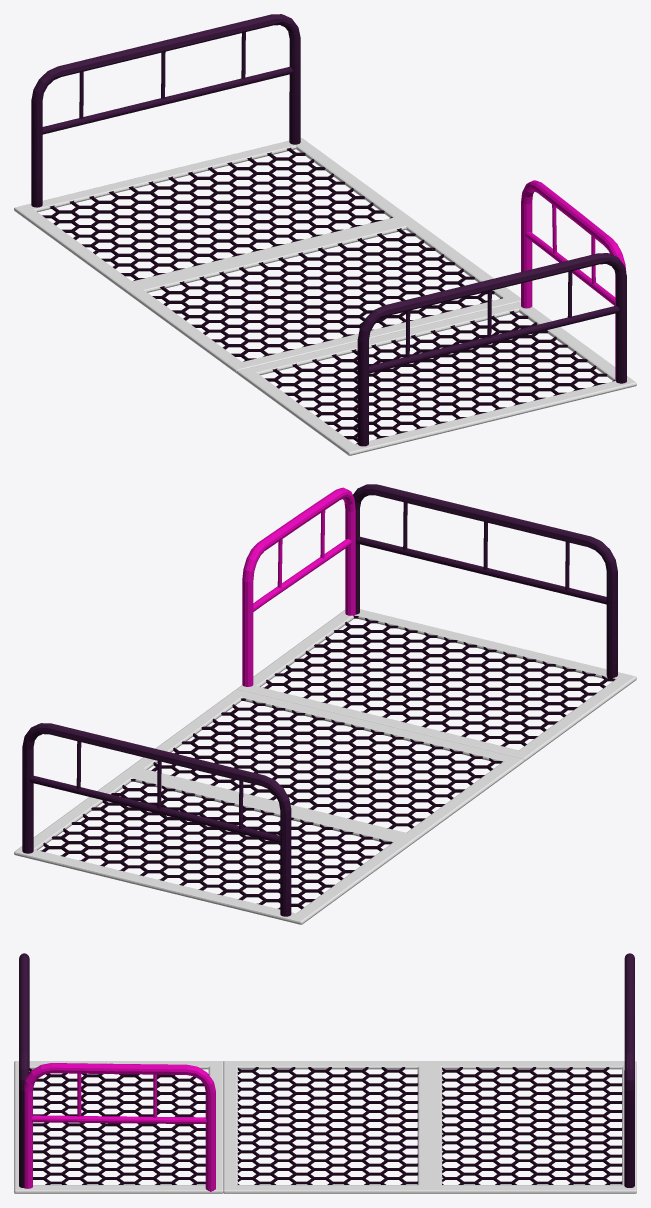
Rendered from WALK.fbx.
3 renders of one model, top to bottom at view 1: azimuth 30°, elevation 25°; view 2: azimuth 150°, elevation 25°; view 3: azimuth 270°, elevation 25°, orthographic. The views are drawn at different scales.
Visible parts, largest first — view 1: Circle.025, Circle.003, Circle.001, Plane.001, rail.031, rail.003, Plane.038, Plane.010, rail.004; view 2: Circle.001, Circle.003, Circle.025, rail.031, Plane.038, Plane.001, rail.003, Plane.010, rail.004; view 3: Circle.003, Circle.025, Circle.001, Plane.010, rail.004, Plane.038, Plane.001, rail.031, rail.003.
Part boxes in pixels (box(x1,y1,x2,y2)): Circle.025: box(42, 147, 392, 280); Circle.003: box(152, 228, 502, 361); Circle.001: box(265, 310, 615, 443); Plane.001: box(236, 301, 636, 455); rail.031: box(31, 14, 300, 207); rail.003: box(357, 253, 626, 446); Plane.038: box(14, 138, 412, 291); Plane.010: box(124, 219, 520, 373); rail.004: box(521, 180, 626, 380); Circle.001: box(263, 616, 615, 746); Circle.003: box(151, 698, 502, 829); Circle.025: box(40, 779, 392, 909); rail.031: box(22, 723, 291, 916); Plane.038: box(14, 770, 413, 924); Plane.001: box(237, 609, 636, 761); rail.003: box(353, 484, 617, 678); Plane.010: box(126, 689, 524, 843); rail.004: box(242, 487, 355, 686); Circle.003: box(237, 1067, 418, 1184); Circle.025: box(442, 1067, 622, 1184); Circle.001: box(29, 1068, 208, 1184); Plane.010: box(223, 1061, 430, 1193); rail.004: box(24, 1063, 215, 1191); Plane.038: box(429, 1061, 636, 1193); Plane.001: box(14, 1061, 223, 1193); rail.031: box(624, 953, 634, 1187); rail.003: box(19, 953, 29, 1187).
Bounding box in the file's own units: 2146 × 973 × 4327.
3 materials, 1 textured.
